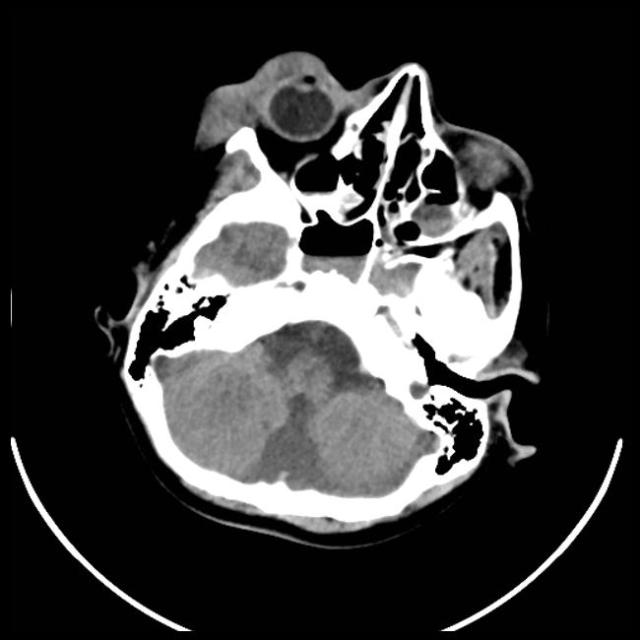lesion: (98, 48, 544, 540)
